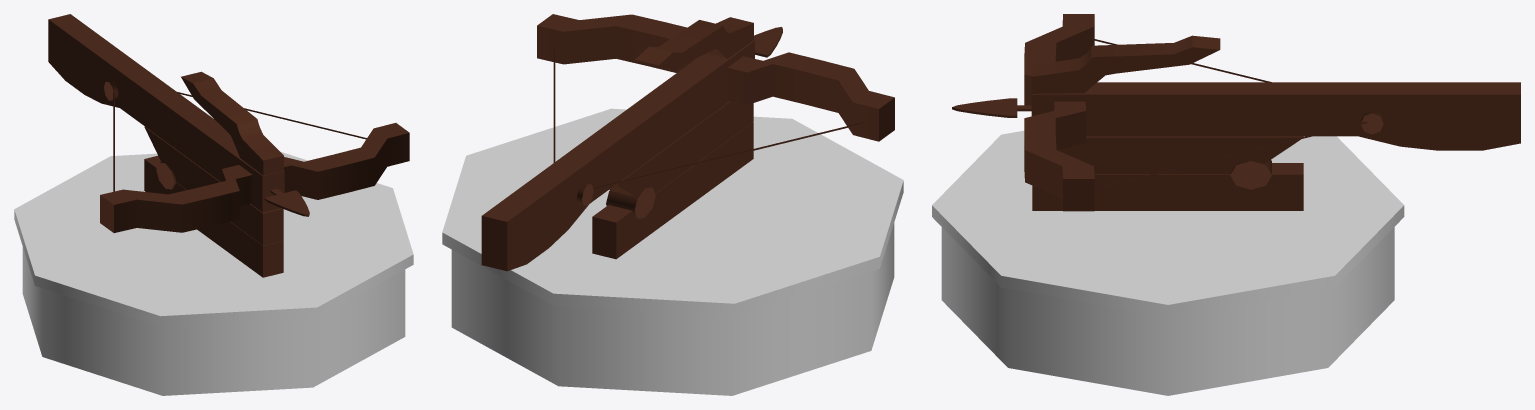
File: darkness_tower_arrow1.FBX
3 views of the same model, side by side, from view 1: azimuth 30°, elevation 25°; view 2: azimuth 150°, elevation 25°; view 3: azimuth 270°, elevation 25° (orthographic). The views are drawn at different scales.
Visible parts, largest first — view 1: platform_bow1, bow1; view 2: platform_bow1, bow1; view 3: platform_bow1, bow1.
Boxes of the visible parts, left/top/right/bottom form: platform_bow1: left=14, top=151, right=413, bottom=395; bow1: left=48, top=14, right=409, bottom=277; platform_bow1: left=442, top=108, right=903, bottom=395; bow1: left=481, top=14, right=894, bottom=271; platform_bow1: left=932, top=130, right=1404, bottom=395; bow1: left=952, top=14, right=1520, bottom=211.
Size of the model in its own units: 9 by 5.44 by 11.22.
